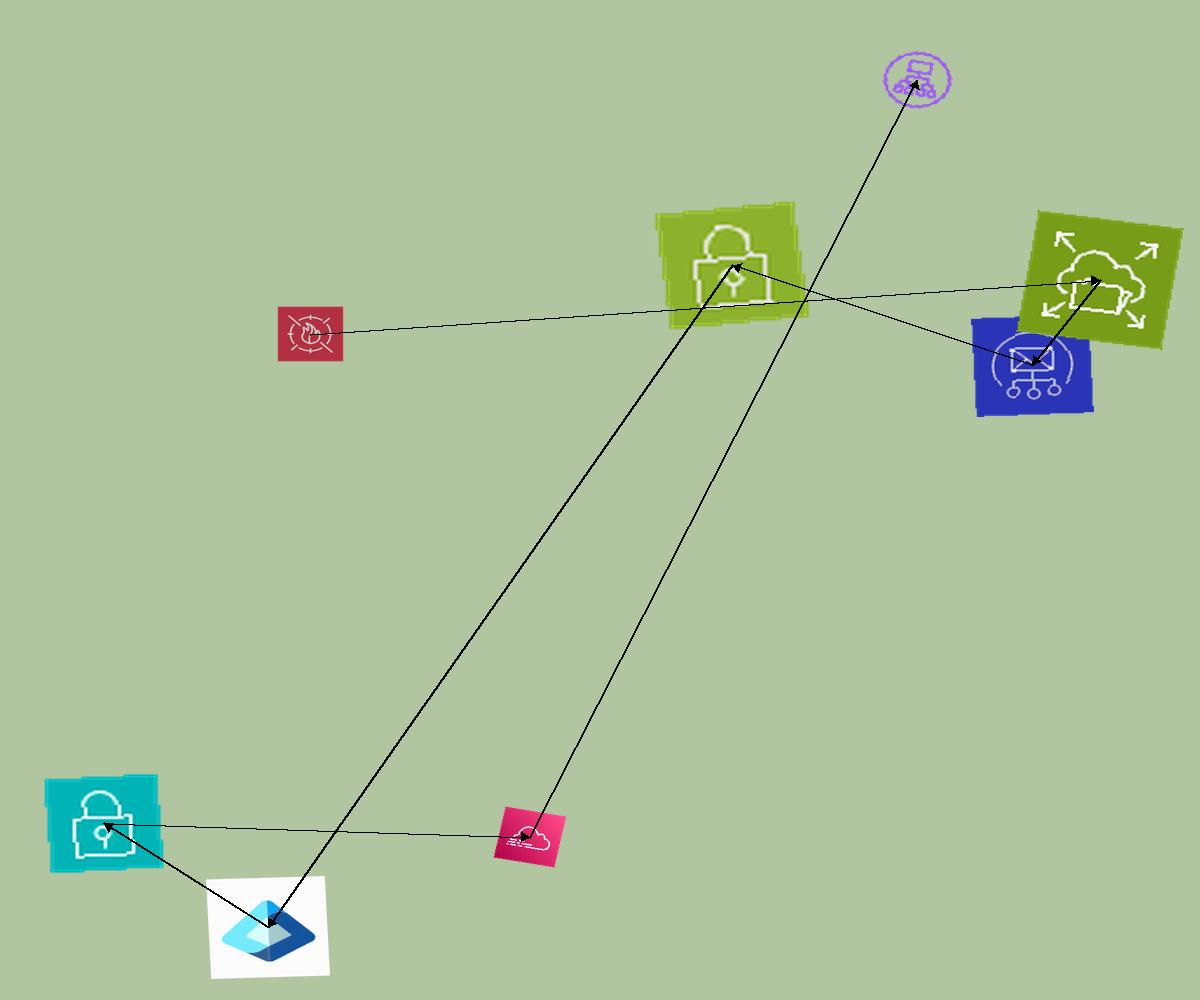AWS-CloudTrail: (493, 806, 567, 868)
AWS-EFS: (1016, 210, 1184, 350)
AWS-Private-subnet: (42, 772, 166, 875)
AWS-Public-subnet: (652, 199, 812, 332)
AWS-Res_Elastic-Load-Balancing_Application-Load-Balancer: (873, 43, 962, 117)
AWS-Simple-Email-Service: (971, 314, 1094, 417)
AWS-WAF: (277, 306, 344, 362)
Azure_microsoft_entra: (206, 876, 330, 979)
